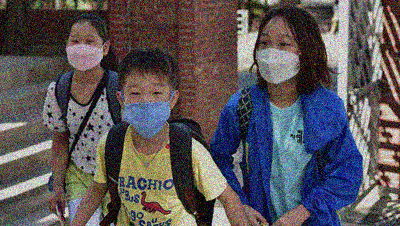with_mask: (122, 80, 173, 138), (257, 30, 301, 86), (66, 32, 104, 72)
